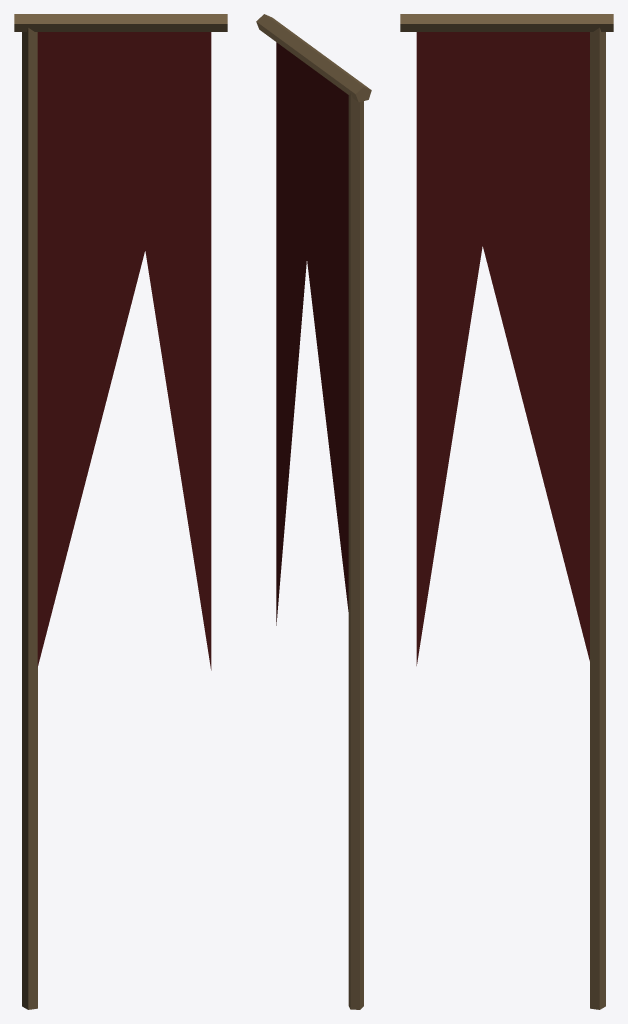
Rendered from Flag.fbx.
3 renders of one model, left to right at view 1: azimuth 90°, elevation 25°; view 2: azimuth 210°, elevation 25°; view 3: azimuth 270°, elevation 25°, orthographic. The views are drawn at different scales.
Visible parts, largest first — view 1: Cylinder.010; view 2: Cylinder.010; view 3: Cylinder.010.
Part boxes in pixels (left/top/right/bottom): Cylinder.010: left=14, top=14, right=227, bottom=1009; Cylinder.010: left=256, top=14, right=371, bottom=1009; Cylinder.010: left=400, top=14, right=613, bottom=1009.
Size of the model in its own units: 14.97 by 817 by 159.
